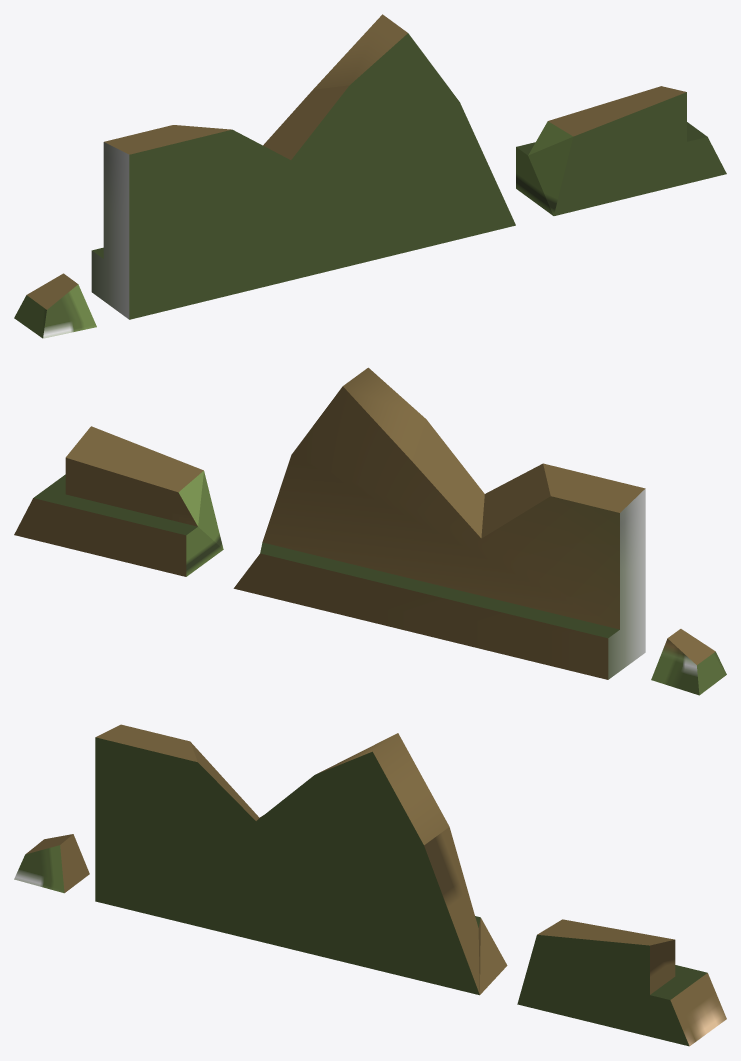
The model's file is SM_Env_Wall_Damaged_03.gltf.
3 views of the same model, one above another, from view 1: azimuth 30°, elevation 25°; view 2: azimuth 150°, elevation 25°; view 3: azimuth 330°, elevation 25° (orthographic).
Visible parts, largest first — view 1: SM_Env_Wall_Damaged_03; view 2: SM_Env_Wall_Damaged_03; view 3: SM_Env_Wall_Damaged_03.
Boxes of the visible parts, box(x1,y1,x2,y2) form: SM_Env_Wall_Damaged_03: box(14, 14, 726, 338); SM_Env_Wall_Damaged_03: box(14, 367, 726, 695); SM_Env_Wall_Damaged_03: box(14, 724, 726, 1046).
Bounding box in the file's own units: 6.51 × 1.99 × 0.6212.
Materials: 1 (1 with a texture image).
